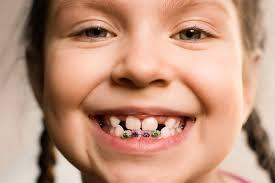Braces: (121, 130, 160, 139)
